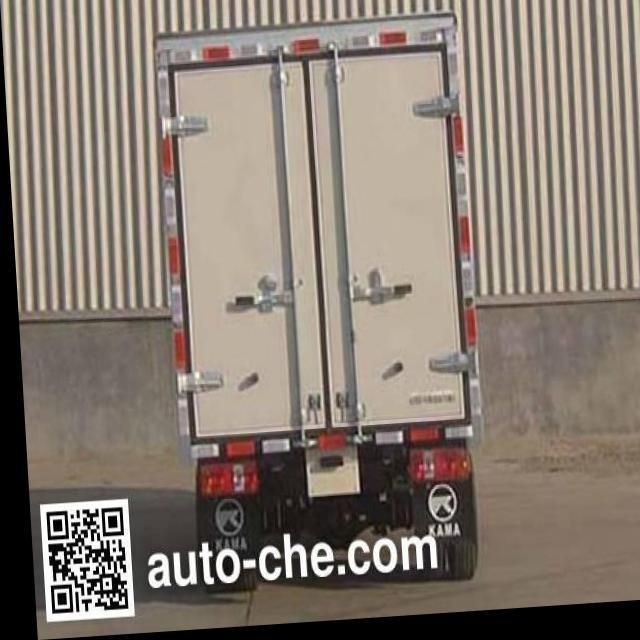covered: (155, 21, 495, 546)
